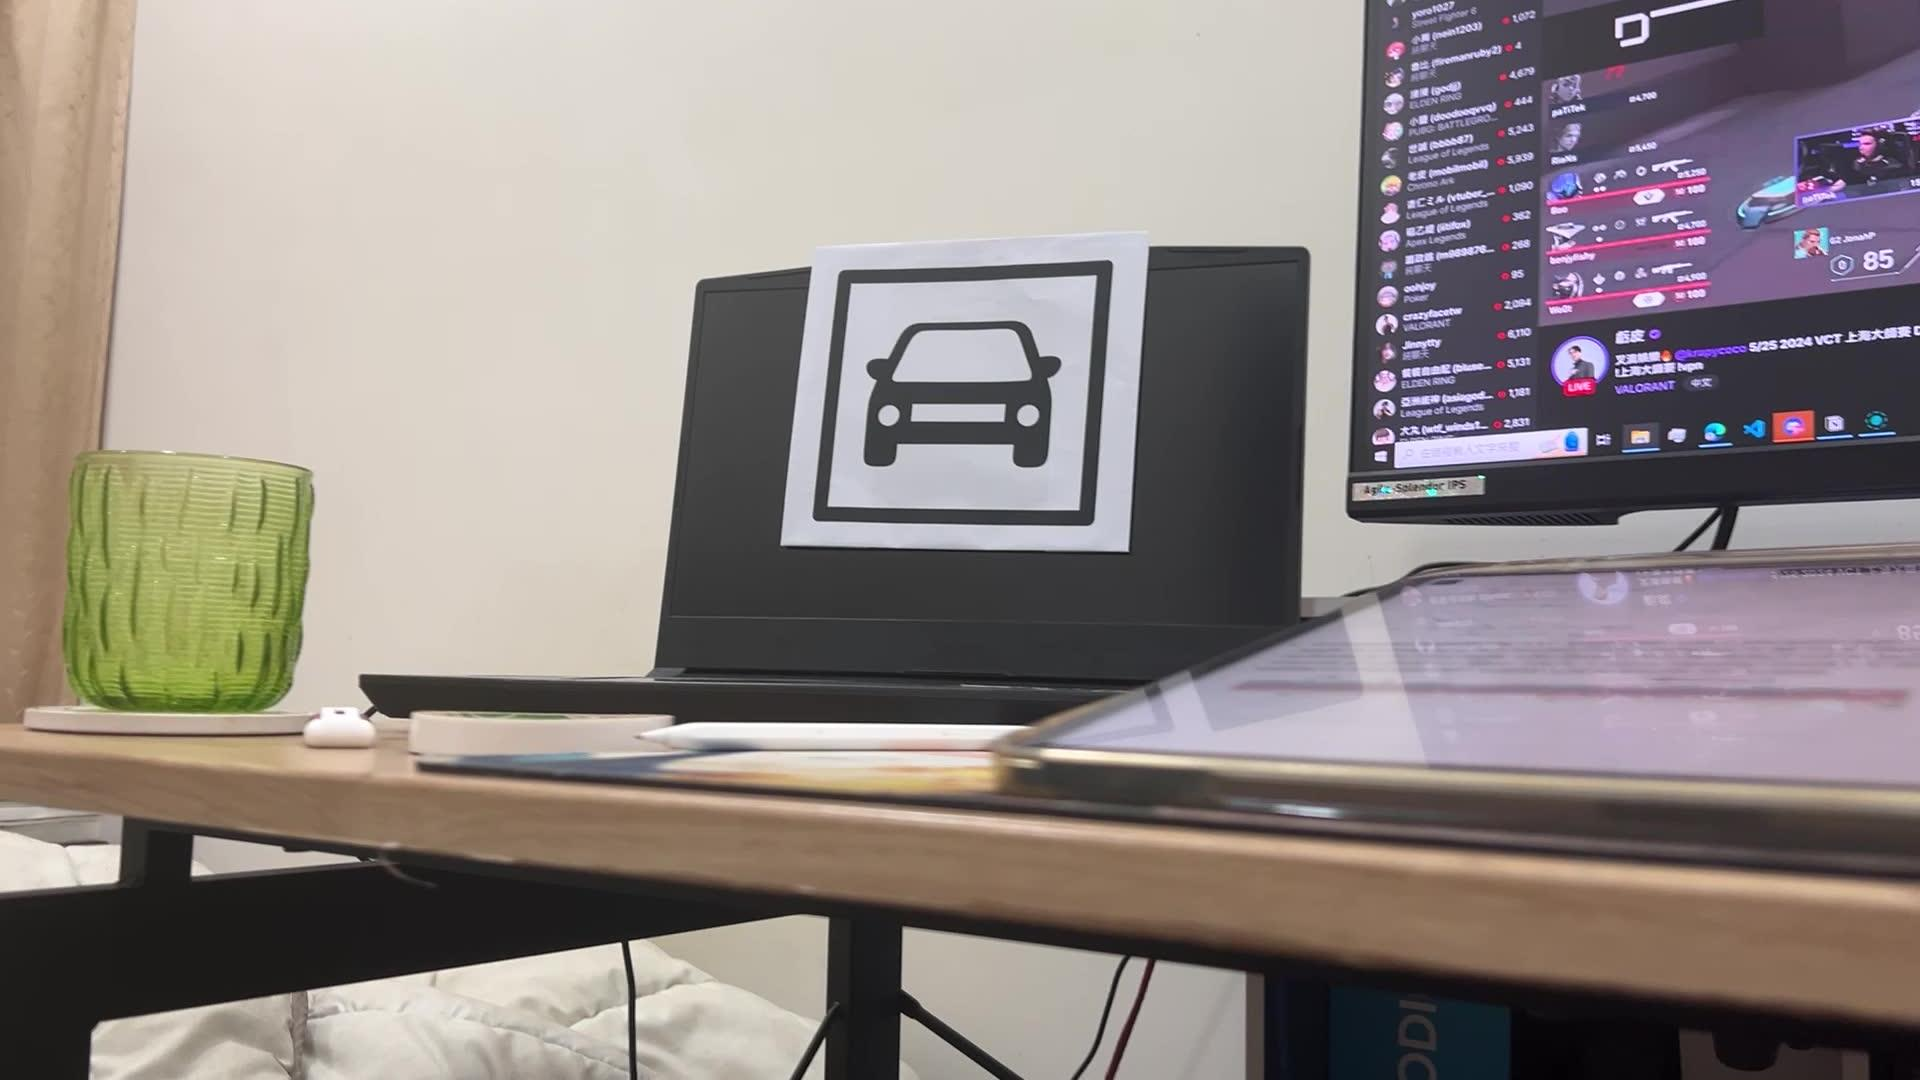car_img: (811, 258, 1117, 527)
